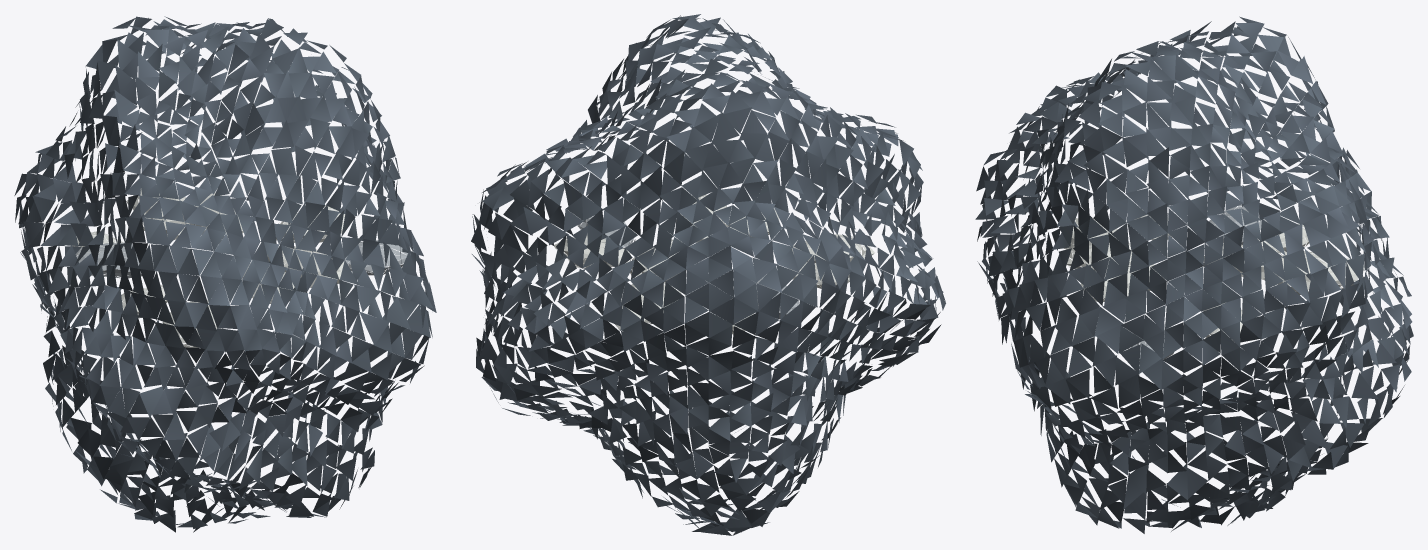
Rendered from small-lod0.glb.
The picture shows the model from 3 angles, left to right: view 1: azimuth 30°, elevation 25°; view 2: azimuth 150°, elevation 25°; view 3: azimuth 270°, elevation 25°; orthographic projection. The views are drawn at different scales.
Parts seen in each view (by area): view 1: tin-host-rock, tin-mineral-seams; view 2: tin-host-rock, tin-mineral-seams; view 3: tin-host-rock, tin-mineral-seams.
Part boxes in pixels (left/top/right/bottom): tin-host-rock: left=14, top=16, right=436, bottom=532; tin-mineral-seams: left=70, top=188, right=412, bottom=347; tin-host-rock: left=471, top=14, right=945, bottom=535; tin-mineral-seams: left=554, top=194, right=875, bottom=334; tin-host-rock: left=975, top=16, right=1413, bottom=533; tin-mineral-seams: left=1060, top=204, right=1364, bottom=364.
Bounding box in the file's own units: 1.7 × 2.1 × 1.69.
